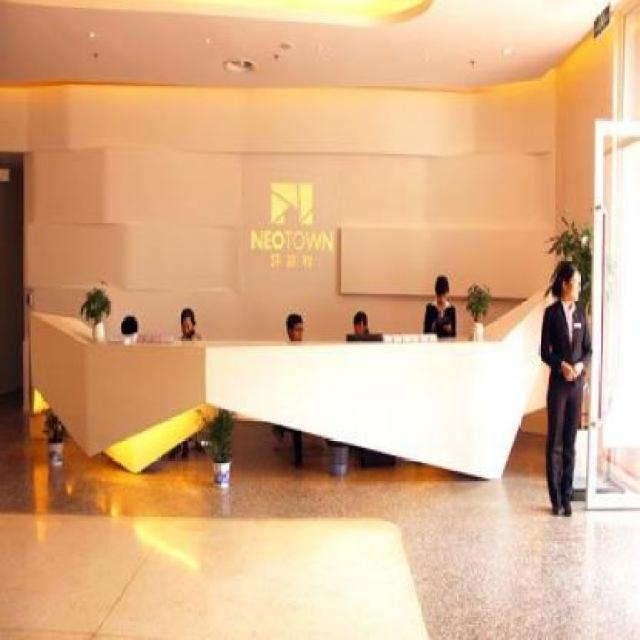frontdesk: (22, 286, 570, 490)
